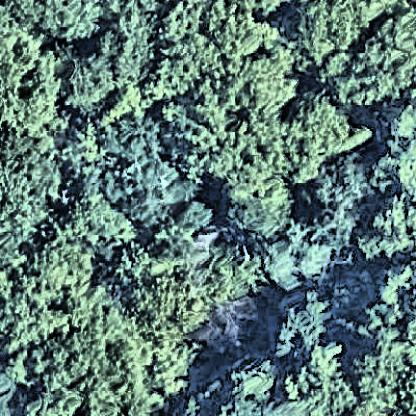tree-top: (161, 1, 290, 121), (295, 1, 416, 107), (100, 117, 195, 226), (1, 247, 112, 336), (37, 323, 143, 416), (286, 86, 356, 186), (1, 131, 60, 241), (1, 25, 60, 133), (226, 160, 295, 247), (106, 3, 166, 89), (131, 271, 210, 335), (290, 346, 357, 416), (355, 328, 405, 416), (60, 43, 118, 115), (359, 193, 416, 263), (17, 1, 111, 42), (256, 240, 331, 288), (278, 292, 327, 355), (227, 355, 283, 400)
